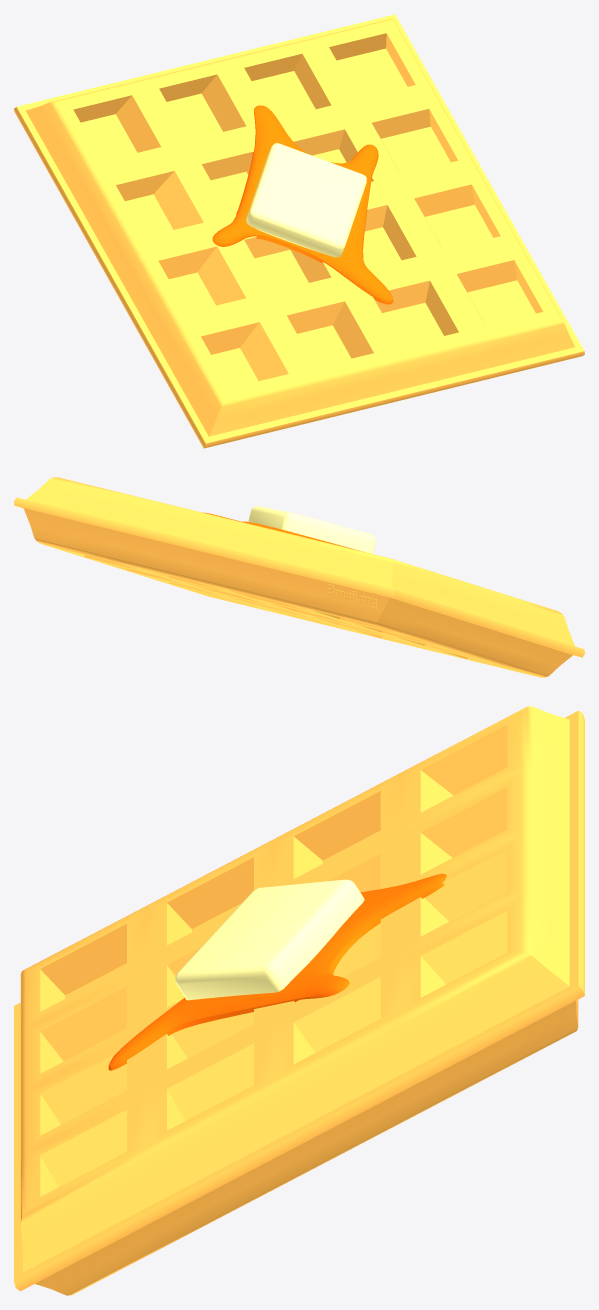
File: waffle.gltf
3 views of the same model, one above another, from view 1: azimuth 30°, elevation 25°; view 2: azimuth 150°, elevation 25°; view 3: azimuth 270°, elevation 25° (orthographic). The views are drawn at different scales.
Visible parts, largest first — view 1: Plane.203; view 2: Plane.203; view 3: Plane.203.
Part boxes in pixels (x1=…): Plane.203: x1=14, y1=14, x2=584, y2=448; Plane.203: x1=14, y1=477, x2=584, y2=677; Plane.203: x1=14, y1=706, x2=584, y2=1295.
Size of the model in its own units: 2.05 by 1.18 by 1.79.
1 material, 1 textured.
